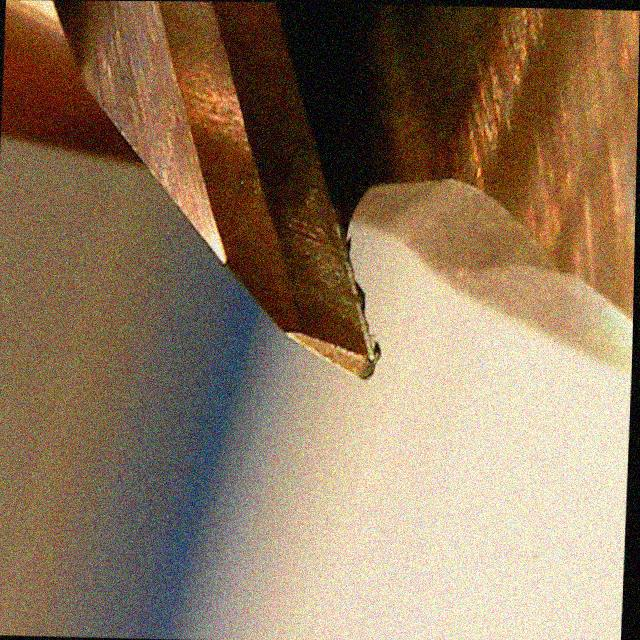Tool-wear-class-1: (200, 102, 398, 393)
